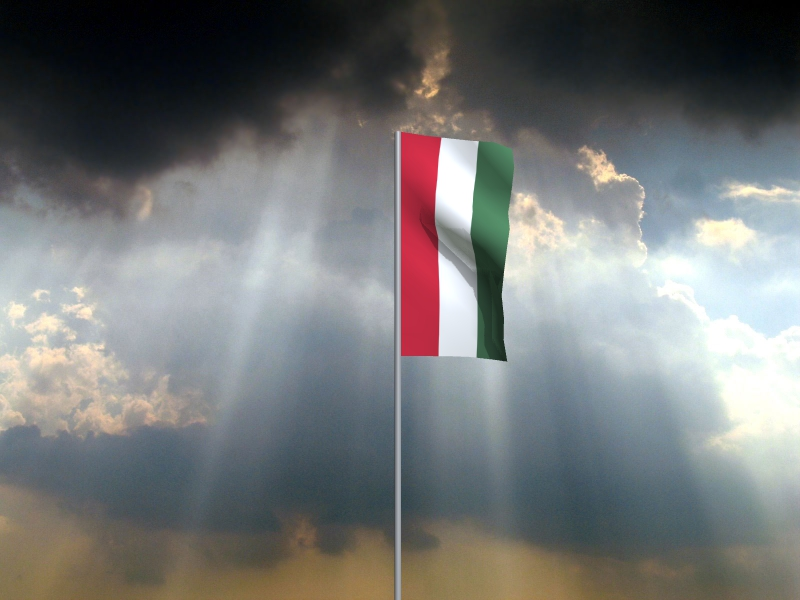hu: (402, 133, 515, 363)
